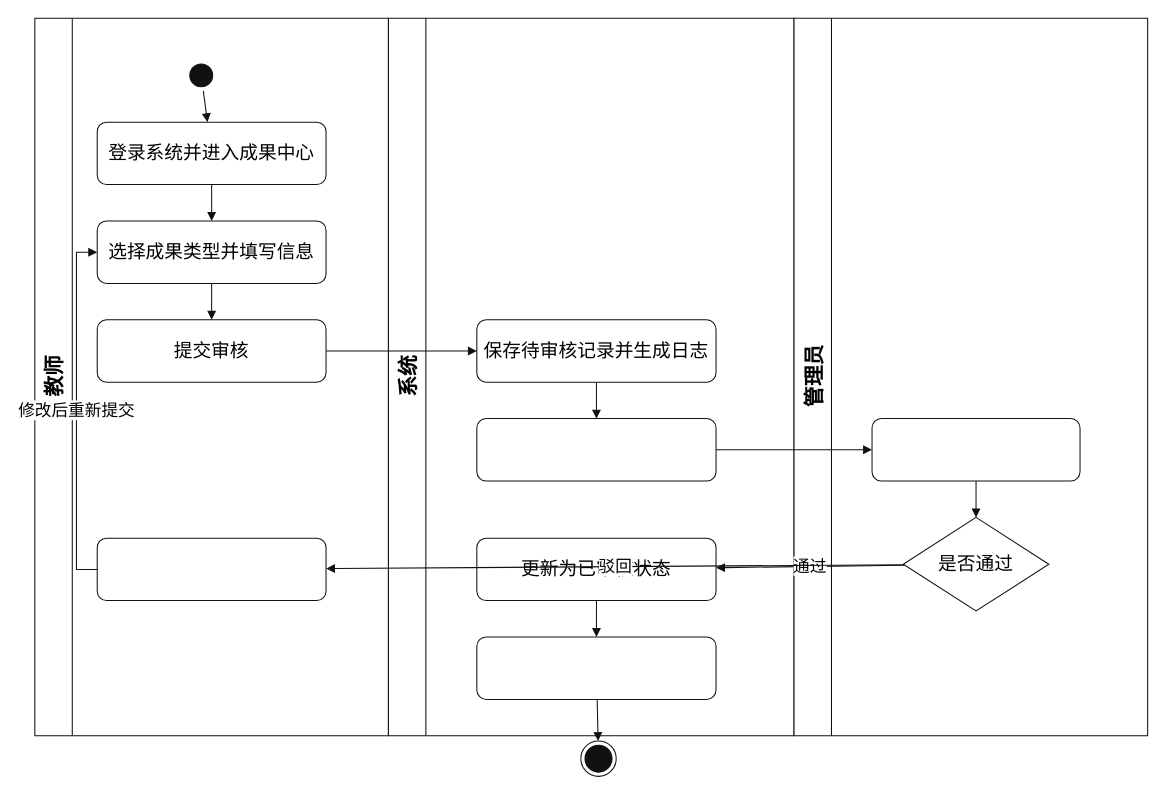
Image size: 1166x795. Some labels were removed from this diagram. The shapes that lost their labels are listed below. From the top down, each one's centre as x and y in pixels, then its label:
At point (596, 449): "发送审核通知".
At point (975, 449): "审核成果材料".
At point (211, 569): "退回修改并发送通知".
At point (596, 667): "进入画像、推荐与统计口径".
